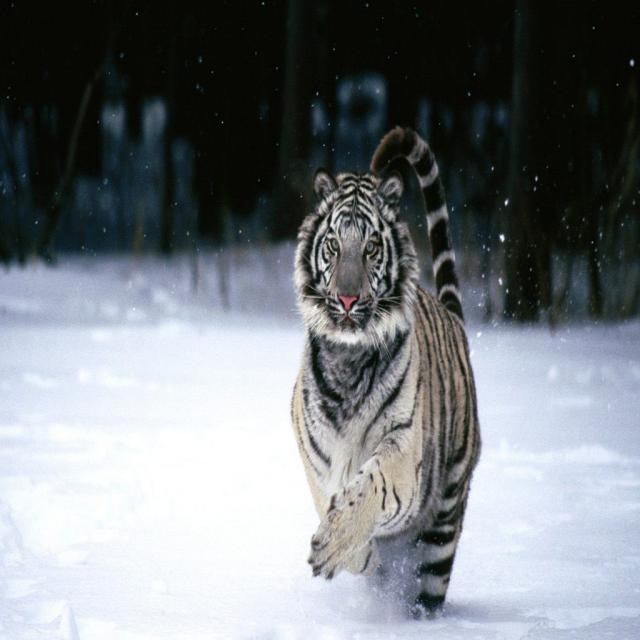Tiger: (289, 124, 484, 619)
